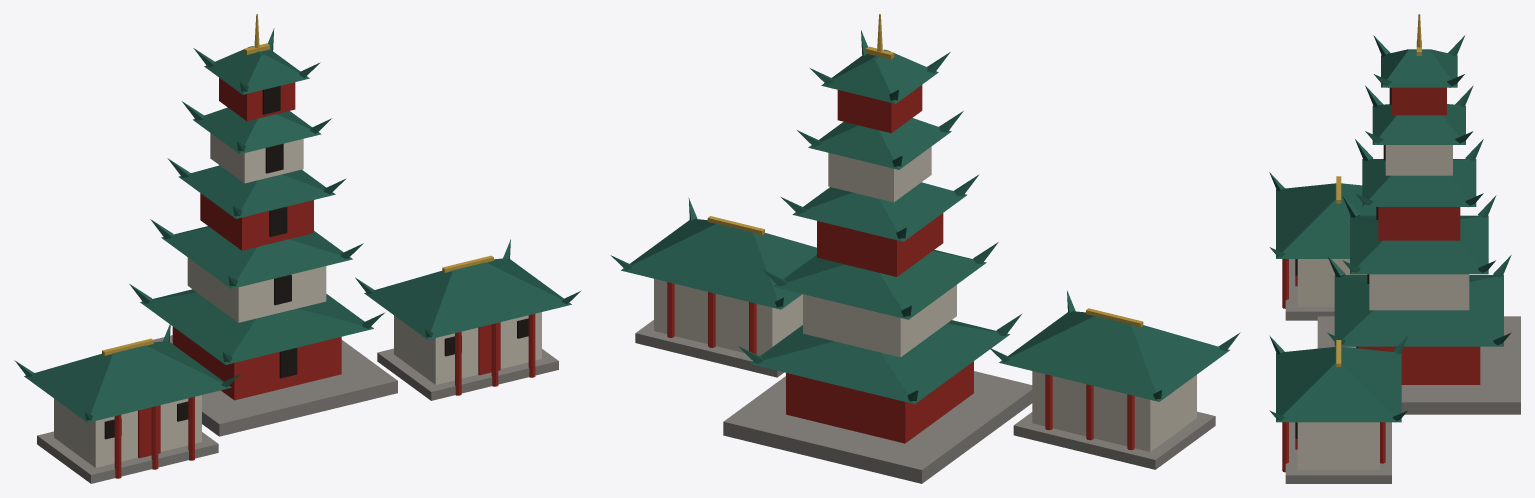
File: dragon_court_broken.glb
3 views of the same model, side by side, from view 1: azimuth 30°, elevation 25°; view 2: azimuth 150°, elevation 25°; view 3: azimuth 270°, elevation 25° (orthographic). The views are drawn at different scales.
Parts seen in each view (by area): view 1: dragon_court_piece5, dragon_court_piece10, dragon_court_piece1, dragon_court_piece12, dragon_court_piece4, dragon_court_piece6, dragon_court_piece9, dragon_court_piece13, dragon_court_piece3, dragon_court_piece2, dragon_court_piece8, dragon_court_piece11 (+2 smaller); view 2: dragon_court_piece13, dragon_court_piece3, dragon_court_piece4, dragon_court_piece2, dragon_court_piece12, dragon_court_piece10, dragon_court_piece1, dragon_court_piece5, dragon_court_piece7, dragon_court_piece0, dragon_court_piece6; view 3: dragon_court_piece3, dragon_court_piece4, dragon_court_piece12, dragon_court_piece10, dragon_court_piece7, dragon_court_piece5, dragon_court_piece6, dragon_court_piece13, dragon_court_piece8, dragon_court_piece1, dragon_court_piece9, dragon_court_piece11 (+1 smaller).
Part boxes in pixels (x1,y1,x2,y2): dragon_court_piece5: (331, 255, 580, 400); dragon_court_piece10: (58, 338, 227, 483); dragon_court_piece1: (163, 145, 271, 435); dragon_court_piece12: (182, 14, 331, 150); dragon_court_piece4: (305, 239, 558, 406); dragon_court_piece6: (250, 294, 389, 407); dragon_court_piece9: (251, 139, 318, 363); dragon_court_piece13: (129, 117, 237, 344); dragon_court_piece3: (173, 215, 327, 390); dragon_court_piece2: (14, 315, 180, 459); dragon_court_piece8: (289, 241, 363, 349); dragon_court_piece11: (202, 339, 337, 456); dragon_court_piece13: (781, 147, 938, 483); dragon_court_piece3: (723, 255, 977, 464); dragon_court_piece4: (610, 236, 802, 371); dragon_court_piece2: (902, 316, 1213, 483); dragon_court_piece12: (797, 14, 963, 165); dragon_court_piece10: (1011, 308, 1240, 455); dragon_court_piece1: (914, 174, 1074, 442); dragon_court_piece5: (661, 198, 816, 307); dragon_court_piece7: (761, 187, 930, 344); dragon_court_piece0: (906, 130, 956, 300); dragon_court_piece6: (737, 325, 804, 411); dragon_court_piece3: (1353, 223, 1520, 414); dragon_court_piece4: (1282, 291, 1407, 483); dragon_court_piece12: (1365, 14, 1473, 144); dragon_court_piece10: (1269, 172, 1367, 320); dragon_court_piece7: (1355, 145, 1495, 274); dragon_court_piece5: (1269, 332, 1366, 468); dragon_court_piece6: (1343, 295, 1504, 414); dragon_court_piece13: (1413, 104, 1520, 354); dragon_court_piece8: (1334, 251, 1398, 345); dragon_court_piece1: (1269, 117, 1385, 326); dragon_court_piece9: (1347, 119, 1391, 296); dragon_court_piece11: (1285, 291, 1351, 348).
Bounding box in the file's own units: 7.01 × 4.89 × 3.12.
